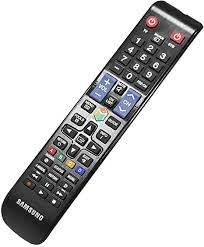remote control: (3, 0, 204, 247)
